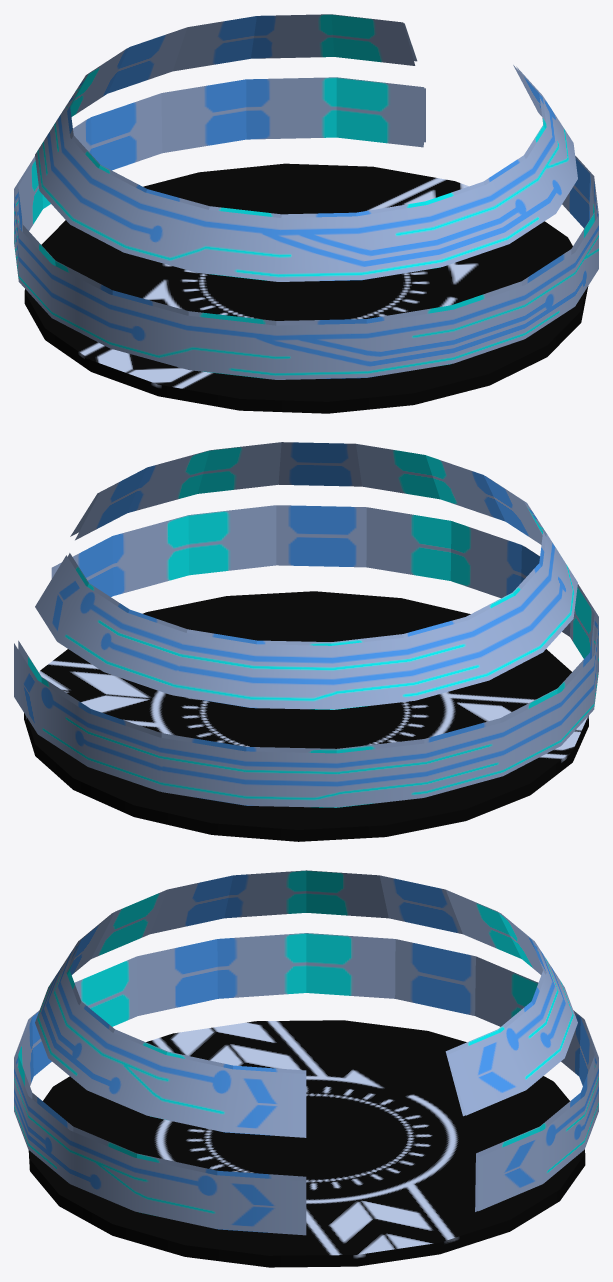
The model's file is Gorl_GO.fbx.
3 renders of one model, top to bottom at view 1: azimuth 30°, elevation 25°; view 2: azimuth 150°, elevation 25°; view 3: azimuth 270°, elevation 25°, orthographic.
Parts seen in each view (by area): view 1: pCylinder2, pCylinder3, pCylinder1; view 2: pCylinder2, pCylinder3, pCylinder1; view 3: pCylinder1, pCylinder2, pCylinder3.
Boxes of the visible parts, x1,y1,x2,y2 form: pCylinder2: (14, 77, 598, 379); pCylinder3: (35, 14, 577, 281); pCylinder1: (24, 163, 588, 413); pCylinder2: (14, 505, 598, 807); pCylinder3: (35, 442, 577, 709); pCylinder1: (24, 591, 588, 841); pCylinder1: (28, 1020, 585, 1267); pCylinder2: (14, 933, 598, 1235); pCylinder3: (35, 870, 577, 1137).
Bounding box in the file's own units: 16.98 × 5.74 × 16.98.
Materials: 1 (1 with a texture image).
